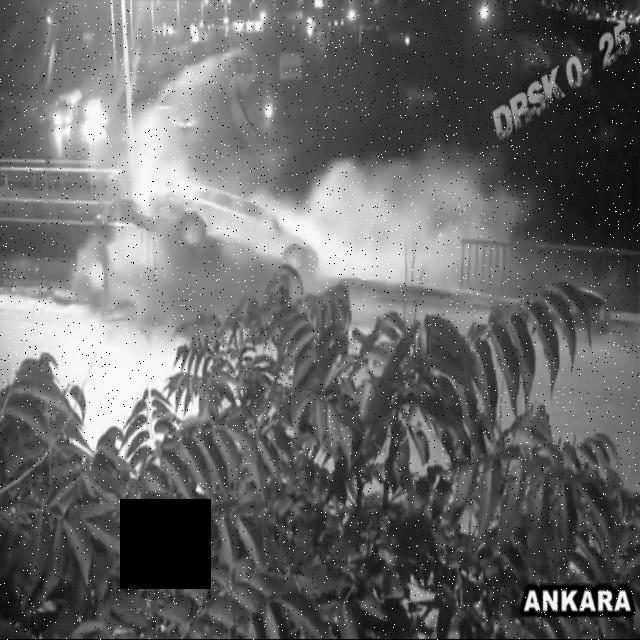person: (122, 157, 364, 350)
